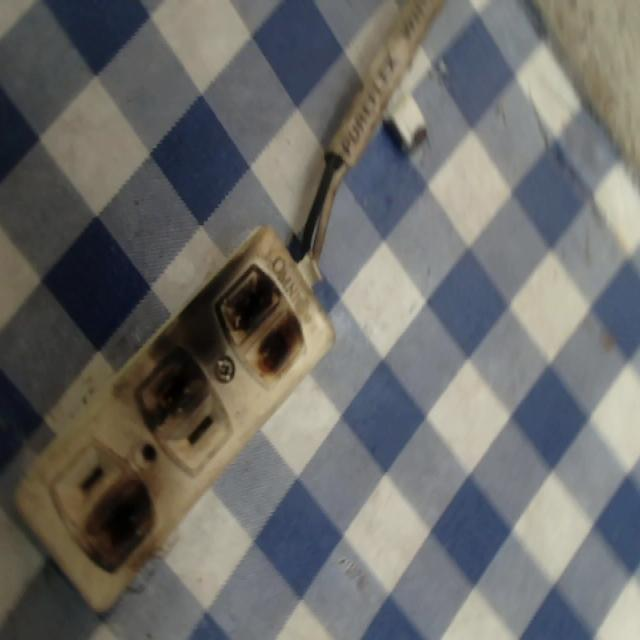-: (209, 250, 312, 386), (119, 346, 214, 426), (93, 480, 162, 564)
